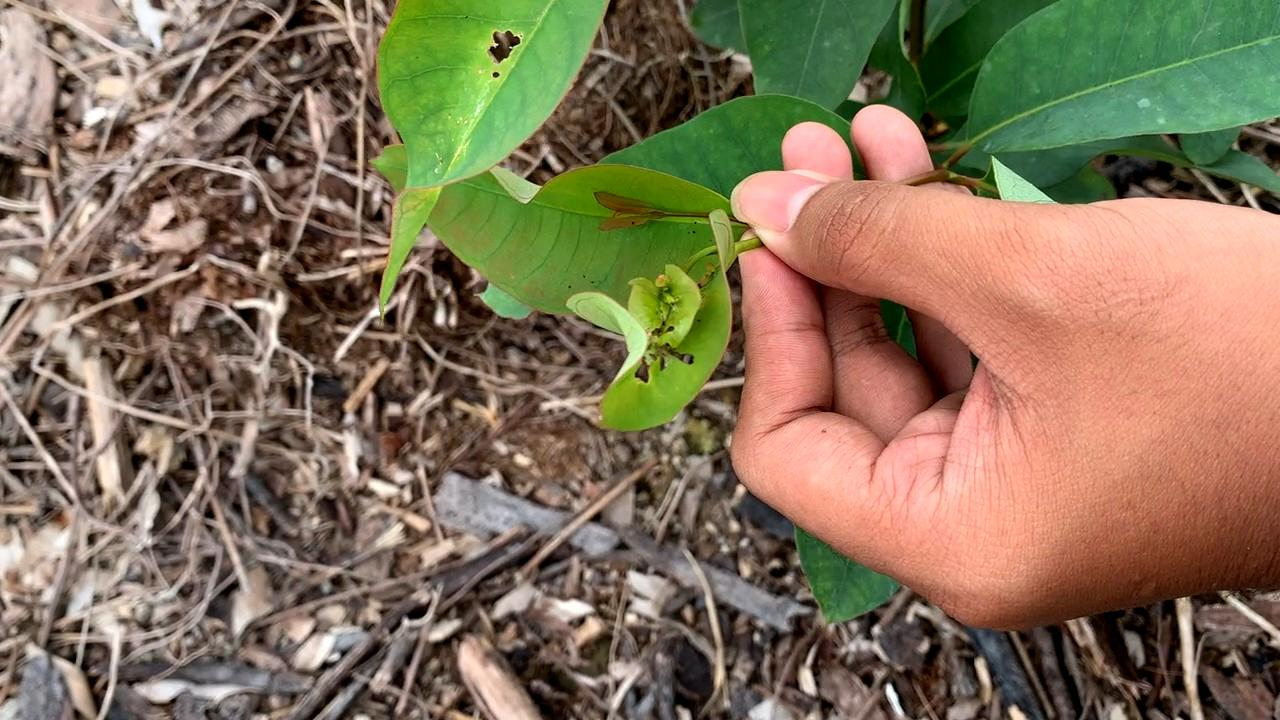Leaf Roller - Leaf: (596, 259, 740, 410)
